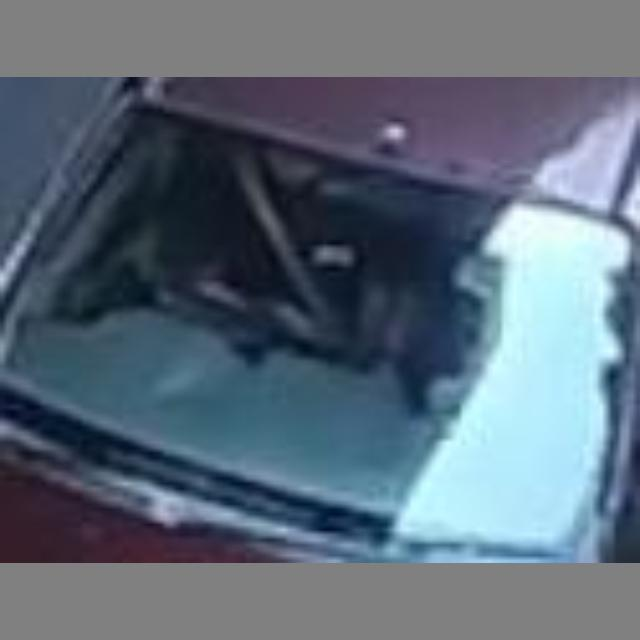pakai: (164, 138, 384, 359)
